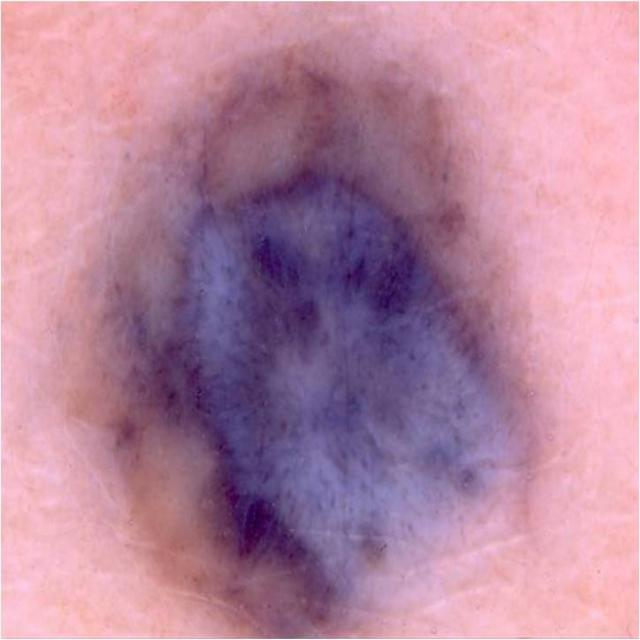Benign: (98, 39, 554, 633)
